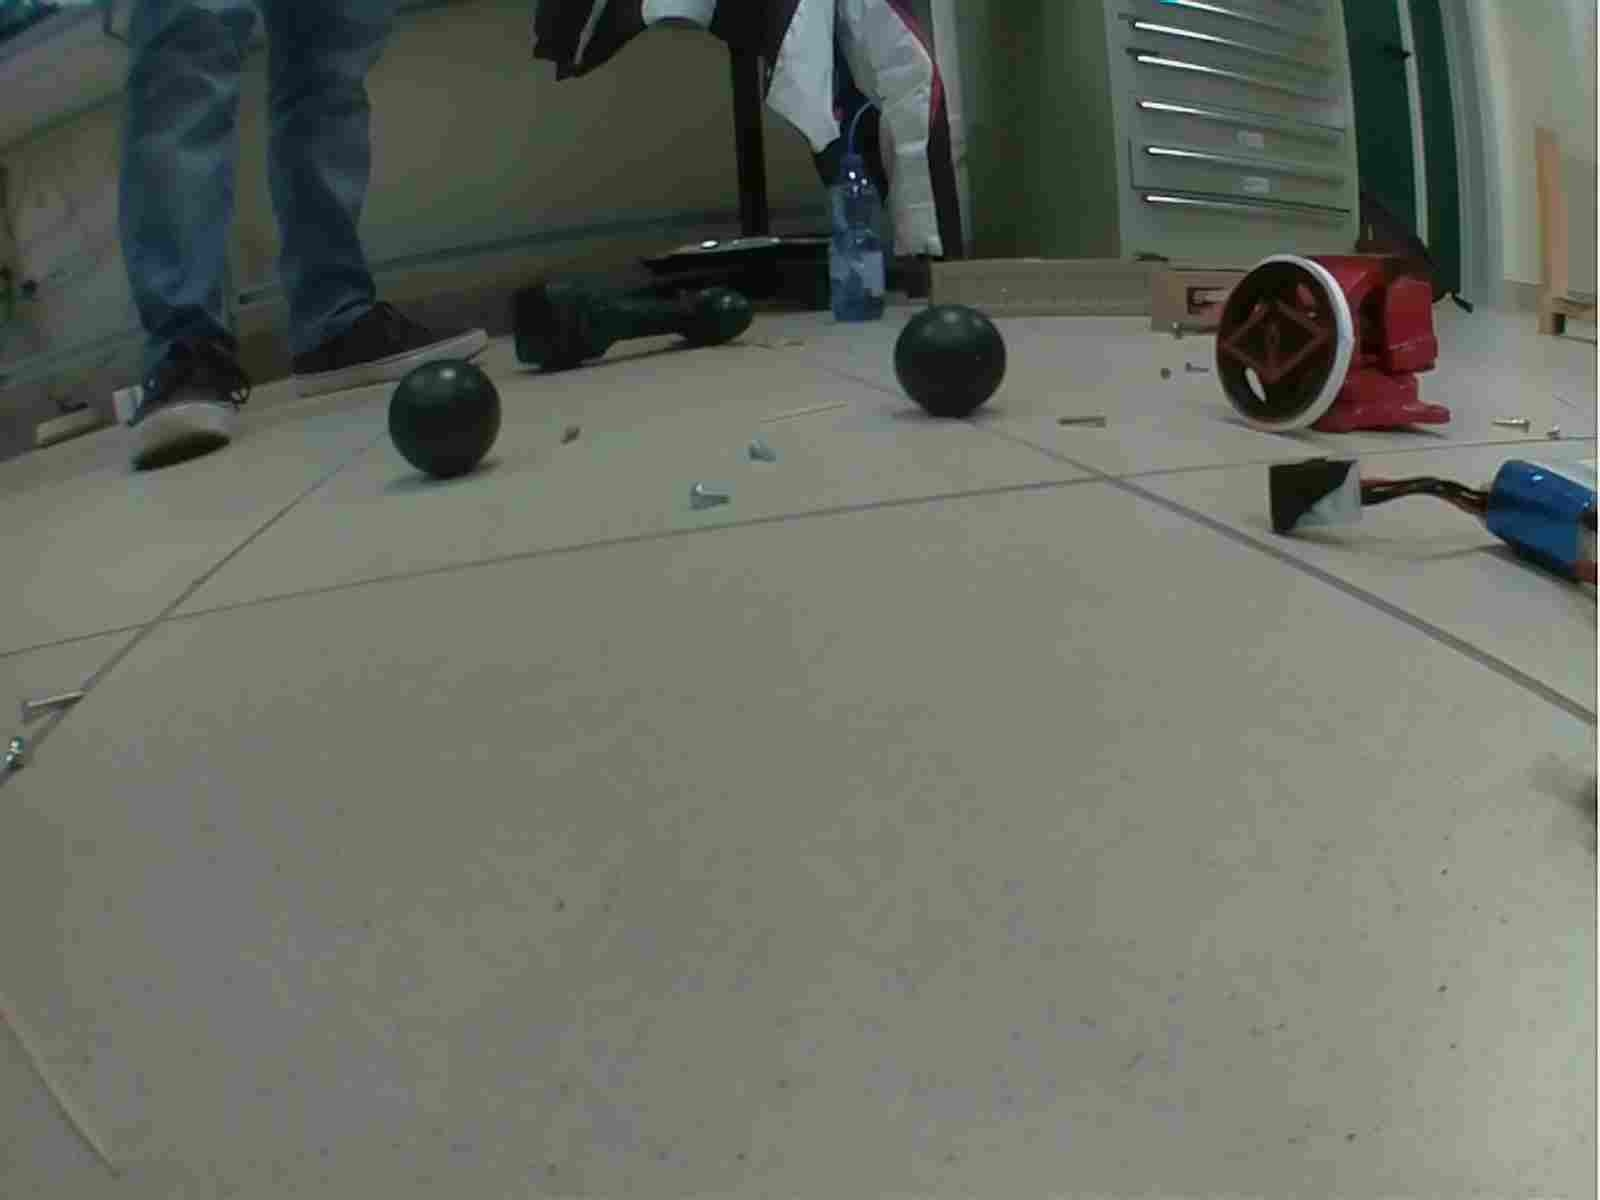nera: (389, 357, 505, 483), (889, 304, 1010, 418)
